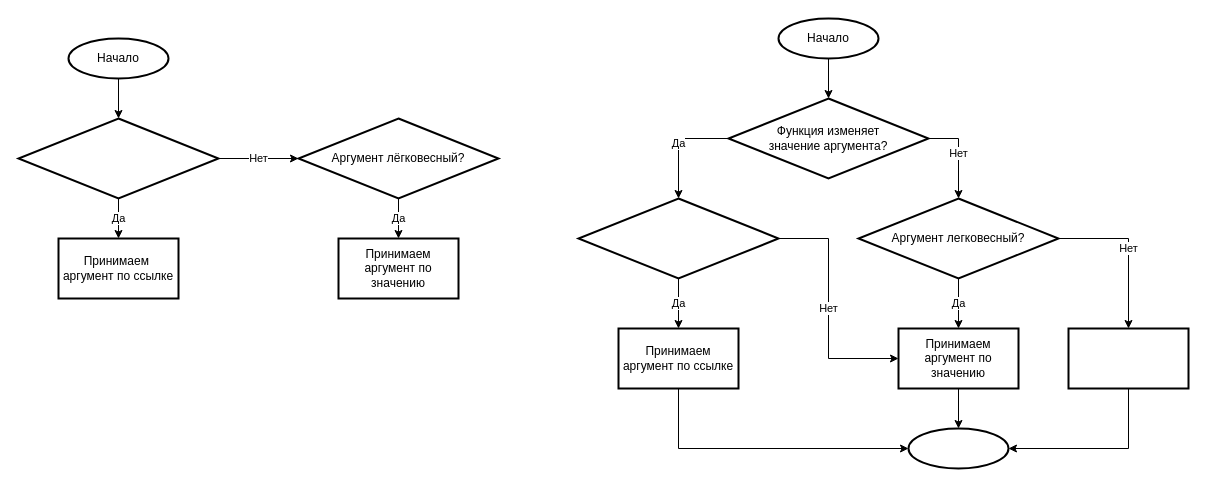
Image size: 1206x486. Some labels were removed from this diagram. The shapes that lost their labels are listed below. From the top down, each one's box as (x1, y1, x2, y2) in pixels, then its label:
(17, 117, 219, 199): Функция должна изменить переданный аргумент?
(577, 197, 779, 279): Изменения должны быть видны вызывающему коду?
(1067, 327, 1189, 389): Принимаем аргумент по константной ссылке
(907, 427, 1009, 469): Конец
